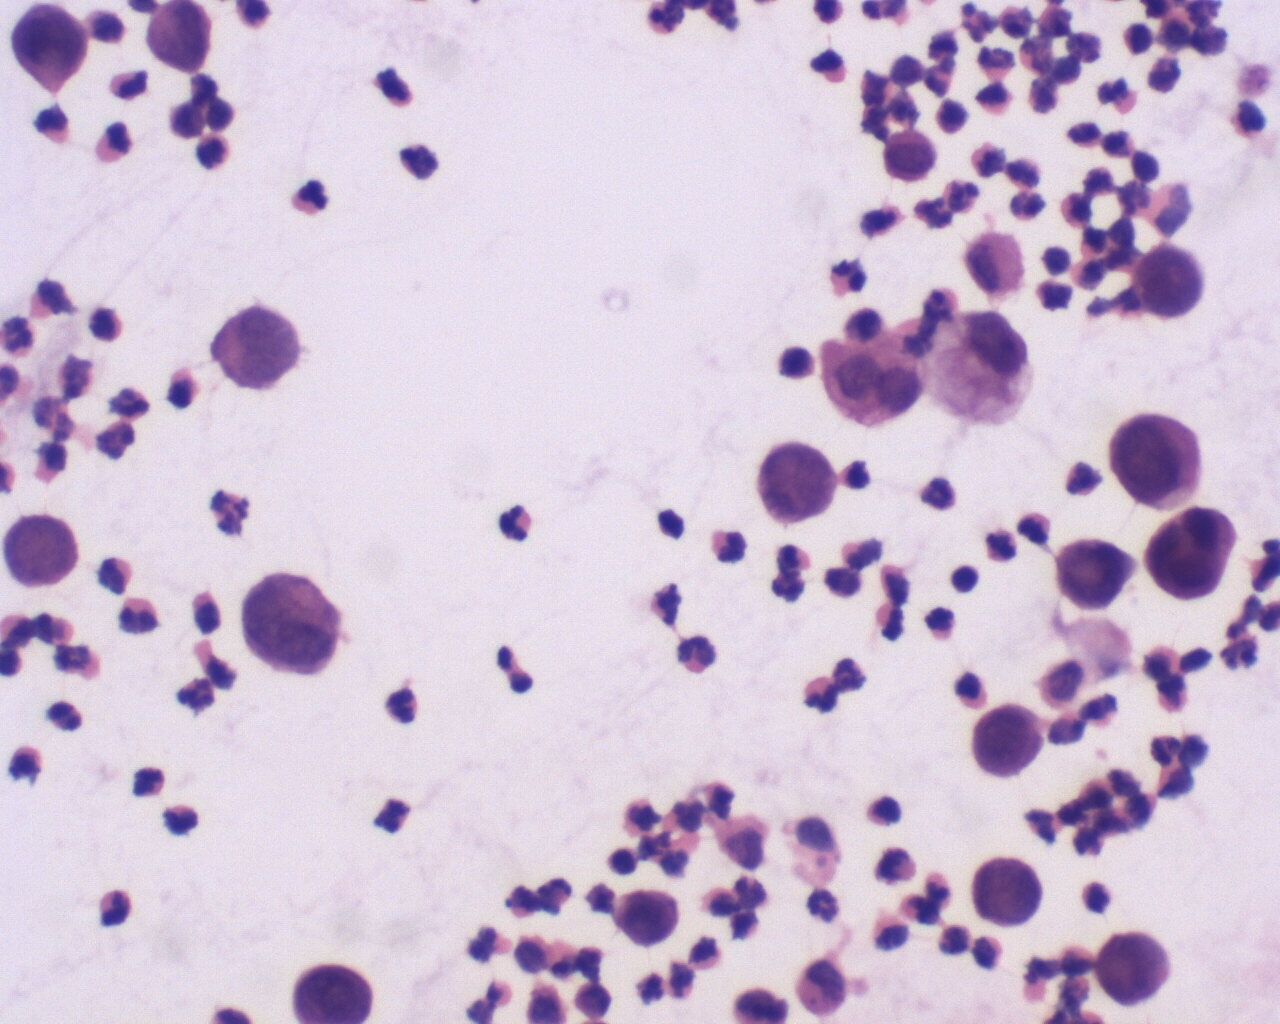ab: (231, 567, 343, 678), (1108, 406, 1207, 512), (1144, 501, 1236, 602), (210, 299, 303, 394), (7, 1, 96, 96), (751, 436, 838, 529), (1133, 239, 1211, 327), (1056, 532, 1137, 616), (965, 702, 1048, 784), (5, 512, 84, 598), (970, 852, 1046, 936), (1095, 926, 1169, 1008), (139, 1, 225, 72), (289, 956, 377, 1024), (611, 881, 688, 949), (878, 125, 941, 186)
histo: (920, 308, 1035, 428)
neutro: (797, 672, 847, 722), (96, 881, 138, 935), (497, 501, 544, 546), (921, 604, 967, 650), (96, 546, 137, 598), (290, 173, 333, 222), (917, 471, 959, 515), (709, 526, 749, 569), (386, 684, 424, 729), (130, 762, 168, 807), (111, 385, 157, 422), (674, 630, 715, 671), (980, 526, 1017, 568)
